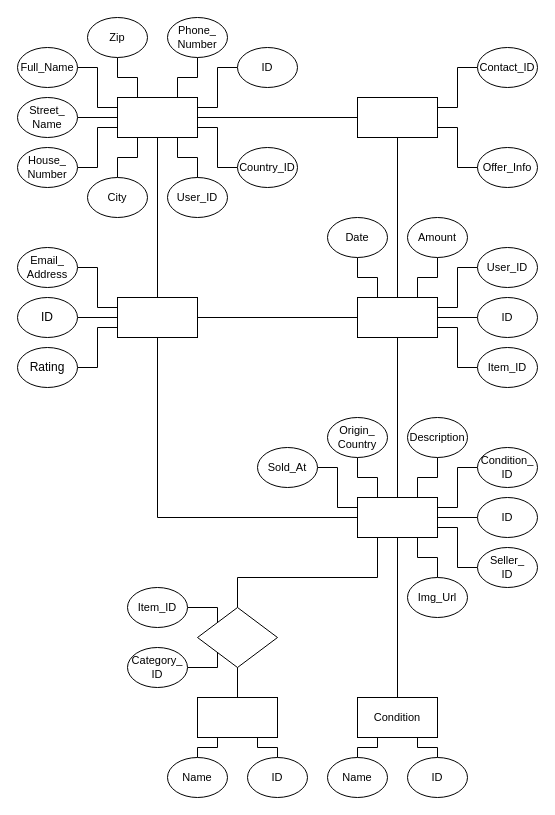
This 555x815 diagram has some shape labels left out. Each missing label, with the centre of its shape:
"Category" belongs at pixel 237 717.
"Contact" belongs at pixel 157 117.
"Item" belongs at pixel 397 517.
"Item_ Categories" belongs at pixel 237 637.
"Offer" belongs at pixel 397 317.
"Sale" belongs at pixel 397 117.
"User" belongs at pixel 157 317.
